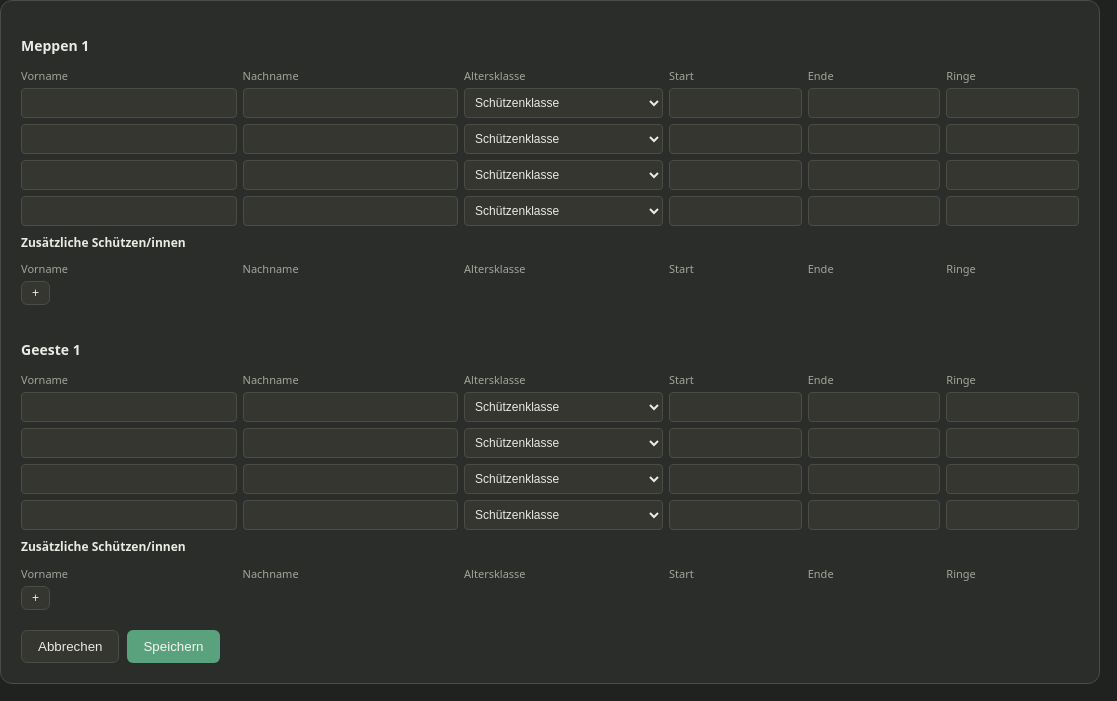
Scenario: MatchForm › fuellt per Vorschlag beide Namensfelder derselben Zeile
The image size is (1117, 701).
Im Nachnamen-Feld der ersten Zeile tippen, Vorschlag anklicken.
Type "kat" into the 1st dropdown named "Nachname" at (350, 103), box [242, 88, 458, 118]
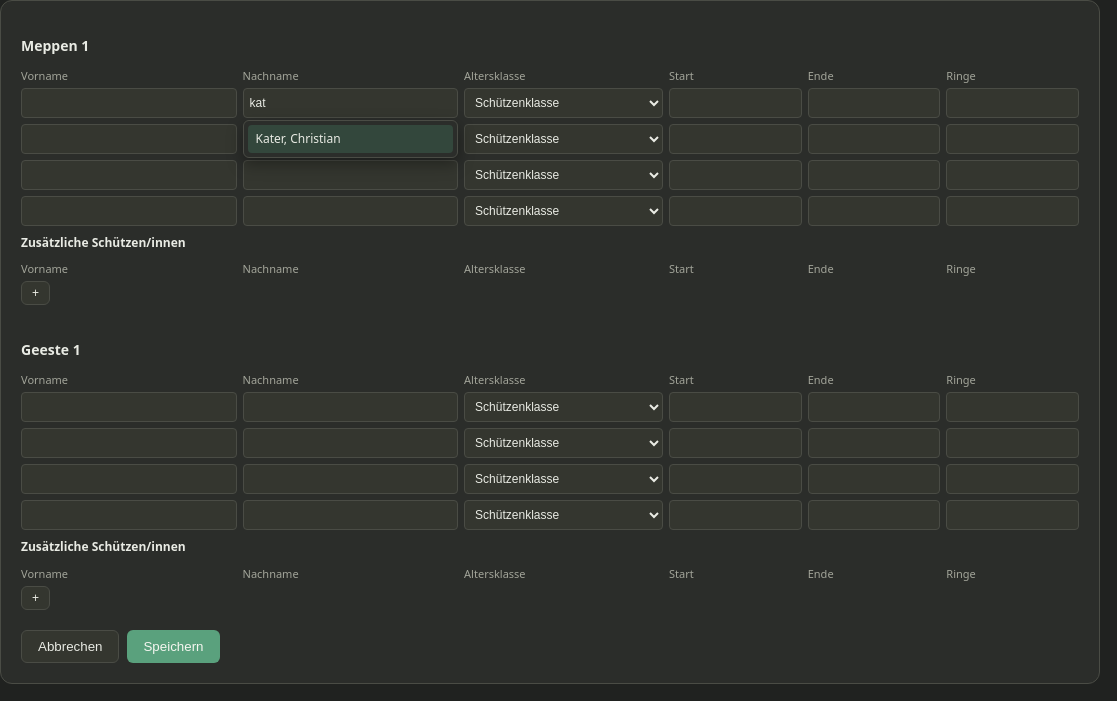
Click the option "Kater, Christian" at (350, 139), box [248, 125, 453, 153]
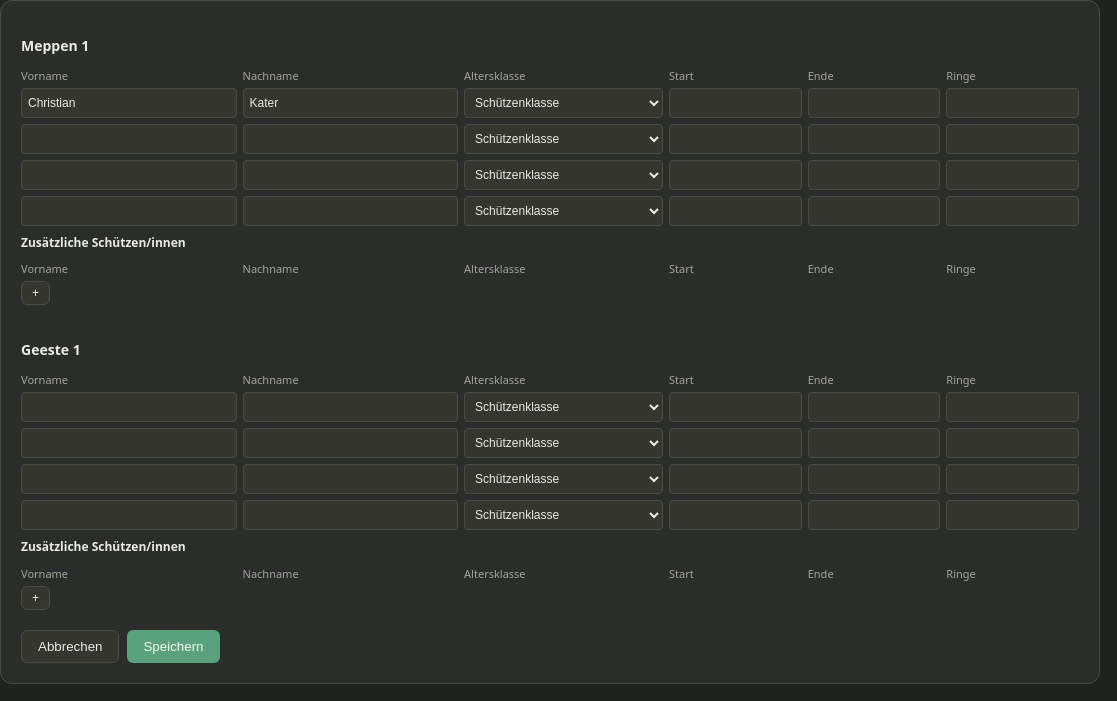
Expected: the 2nd dropdown named "Vorname" is empty, [21, 124, 236, 154]
Result: the 1st dropdown named "Vorname" holds "Christian" at [21, 88, 236, 118]
Result: the 1st dropdown named "Nachname" holds "Kater" at [242, 88, 458, 118]
